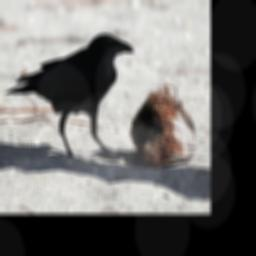Crow: (3, 33, 135, 163)
